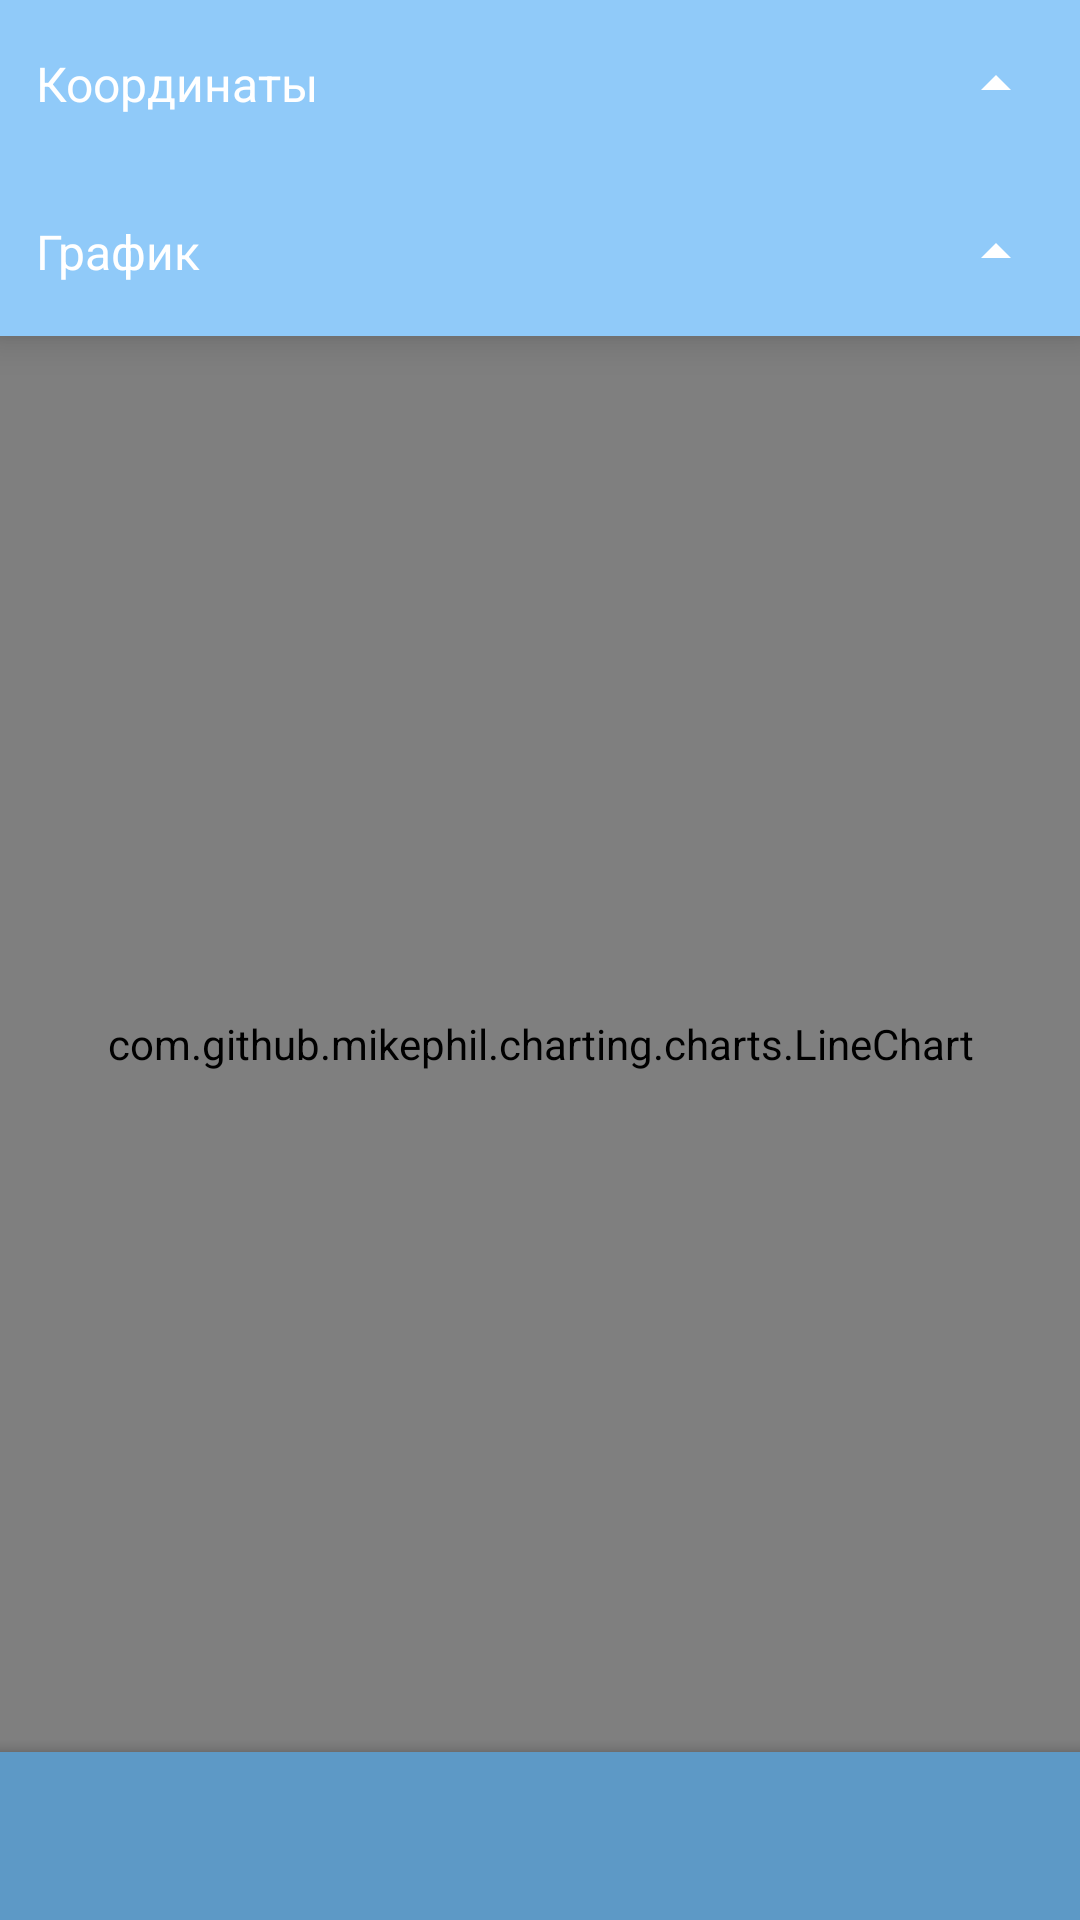

Named icons in this screenshot (1080px x 1920px) and their centers, point (x, y):
arrow drop up: point (996, 82), point (996, 250)
